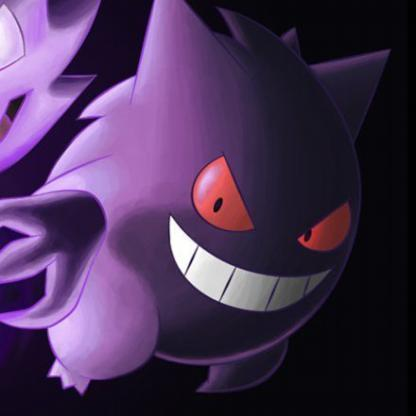Gengar: (46, 1, 416, 416)
